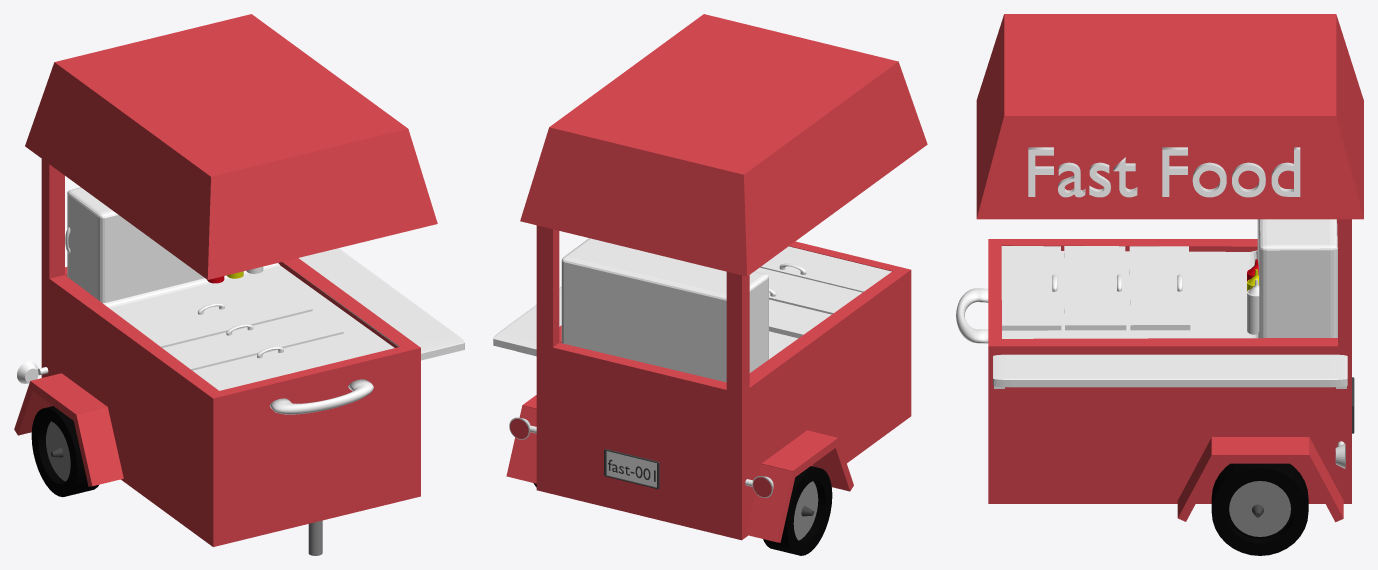
Rendered from lowpoly_fast_food_street_stand.glb.
The picture shows the model from 3 angles, left to right: view 1: azimuth 30°, elevation 25°; view 2: azimuth 150°, elevation 25°; view 3: azimuth 270°, elevation 25°; orthographic projection. The views are drawn at different scales.
Visible parts, largest first — view 1: Cube.001, Cube, Cube.014, Cube.020, Cube.019, Cube.002, Cube.009, Cube.008, Torus, Cube.011, Cube.010; view 2: Cube.001, Cube, Cube.020, Cube.014, Cube.002, Cube.010, Cube.008, Cube.019, Cube.007, Cube.022, Cube.009, Cube.011; view 3: Cube.001, Cube, Cube.014, Cube.019, Cube.020, Text, Cube.003, Cube.006, Cube.004, Cube.005, Cube.007, Torus (+1 smaller).
Boxes of the visible parts, x1=… form: Cube.001: x1=25, y1=14, x2=437, y2=279; Cube: x1=41, y1=159, x2=420, y2=546; Cube.014: x1=103, y1=263, x2=394, y2=390; Cube.020: x1=67, y1=187, x2=204, y2=303; Cube.019: x1=284, y1=248, x2=464, y2=360; Cube.002: x1=31, y1=406, x2=98, y2=496; Cube.009: x1=72, y1=407, x2=123, y2=486; Cube.008: x1=30, y1=373, x2=107, y2=420; Torus: x1=269, y1=379, x2=373, y2=414; Cube.011: x1=46, y1=423, x2=70, y2=479; Cube.010: x1=14, y1=381, x2=52, y2=435; Cube.001: x1=520, y1=14, x2=927, y2=276; Cube: x1=536, y1=225, x2=911, y2=540; Cube.020: x1=561, y1=238, x2=768, y2=382; Cube.014: x1=755, y1=246, x2=891, y2=359; Cube.002: x1=763, y1=466, x2=832, y2=555; Cube.010: x1=746, y1=464, x2=794, y2=542; Cube.008: x1=761, y1=430, x2=837, y2=478; Cube.019: x1=493, y1=286, x2=561, y2=355; Cube.007: x1=506, y1=405, x2=536, y2=483; Cube.022: x1=606, y1=451, x2=656, y2=487; Cube.009: x1=809, y1=430, x2=853, y2=491; Cube.011: x1=793, y1=482, x2=818, y2=538; Cube.001: x1=976, y1=14, x2=1363, y2=219; Cube: x1=988, y1=219, x2=1351, y2=503; Cube.014: x1=1001, y1=246, x2=1259, y2=338; Cube.019: x1=993, y1=354, x2=1347, y2=387; Cube.020: x1=1257, y1=219, x2=1337, y2=338; Text: x1=1028, y1=147, x2=1300, y2=197; Cube.003: x1=1211, y1=463, x2=1308, y2=555; Cube.006: x1=1229, y1=481, x2=1290, y2=536; Cube.004: x1=1212, y1=437, x2=1309, y2=463; Cube.005: x1=1177, y1=437, x2=1219, y2=521; Cube.007: x1=1301, y1=437, x2=1343, y2=522; Torus: x1=956, y1=288, x2=988, y2=343.
Size of the model in its own units: 3.23 by 4.28 by 3.74.
